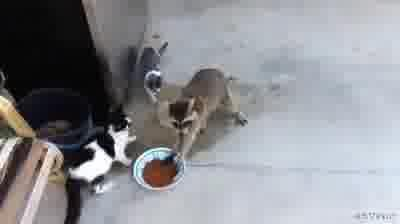raccoon: (167, 67, 249, 161)
